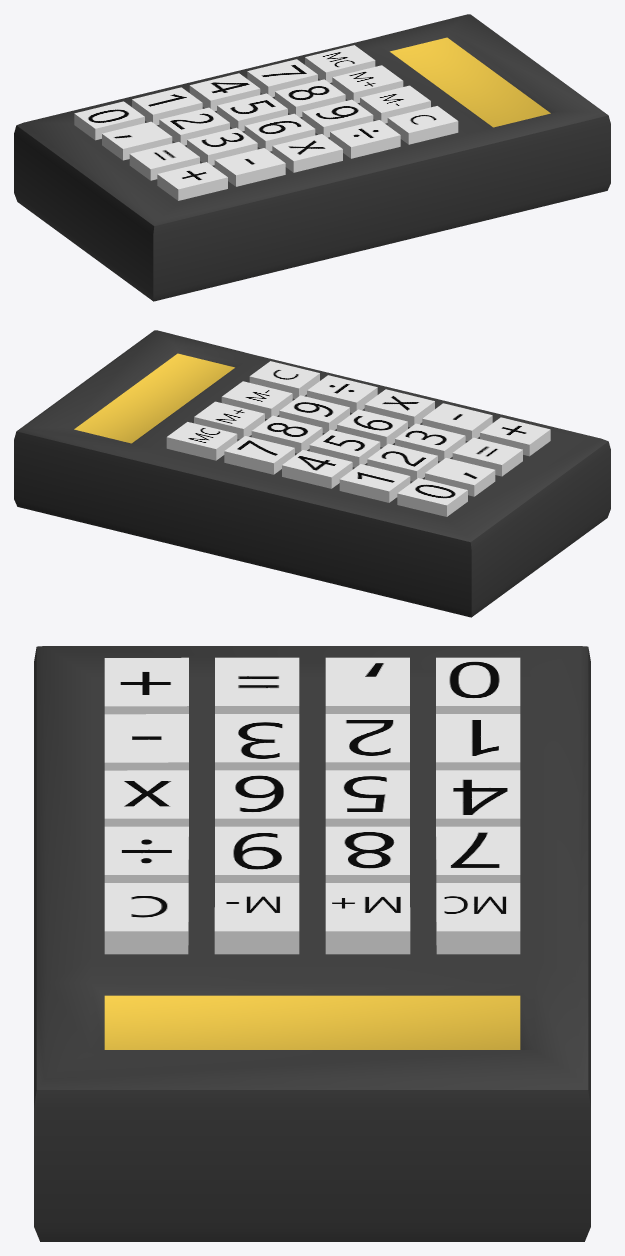
Rendered from calculator.FBX.
3 views of the same model, one above another, from view 1: azimuth 30°, elevation 25°; view 2: azimuth 150°, elevation 25°; view 3: azimuth 270°, elevation 25° (orthographic). The views are drawn at different scales.
Visible parts, largest first — view 1: Box001; view 2: Box001; view 3: Box001.
Boxes of the visible parts, x1,y1,x2,y2 form: Box001: [14, 14, 610, 301]; Box001: [14, 330, 610, 617]; Box001: [34, 646, 590, 1241].
Size of the model in its own units: 24.13 by 4.69 by 12.71.
1 material, 1 textured.
